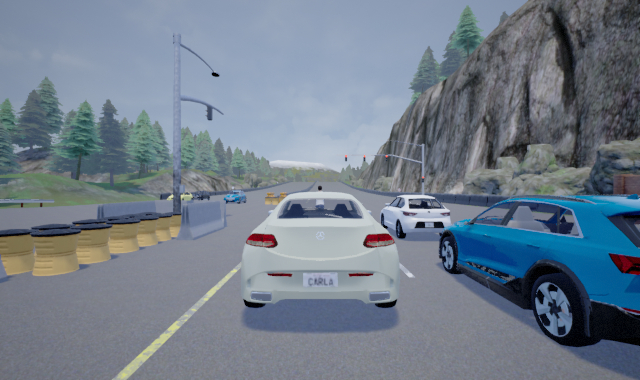bike: (315, 185, 326, 215)
traffic_light: (362, 153, 368, 163), (344, 153, 349, 164), (383, 152, 389, 161), (420, 175, 426, 184)
vehicle: (438, 195, 640, 344), (240, 190, 399, 309), (379, 193, 451, 238), (167, 191, 192, 203), (224, 192, 247, 204), (191, 191, 211, 201)
